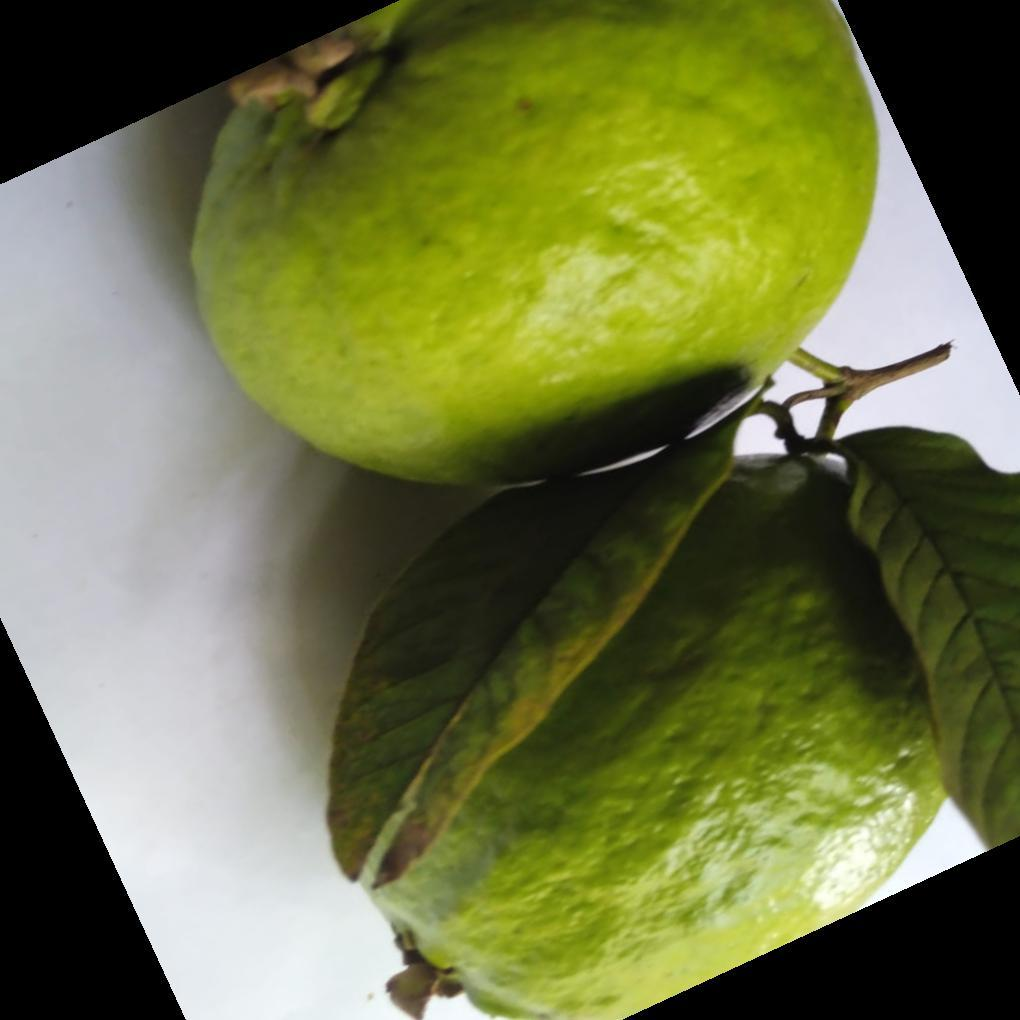FreshGuava: (185, 0, 1020, 1020)
